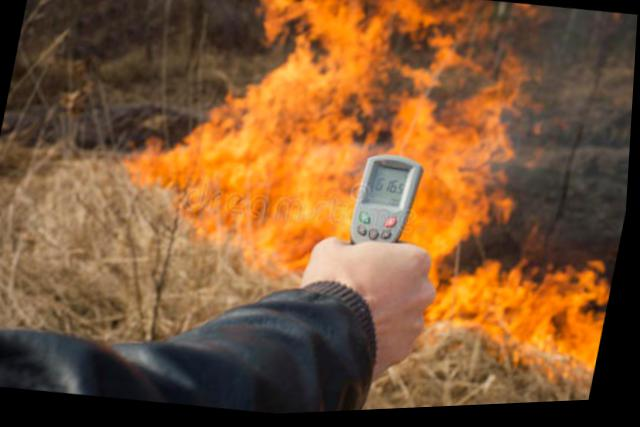fire: (107, 0, 639, 396)
